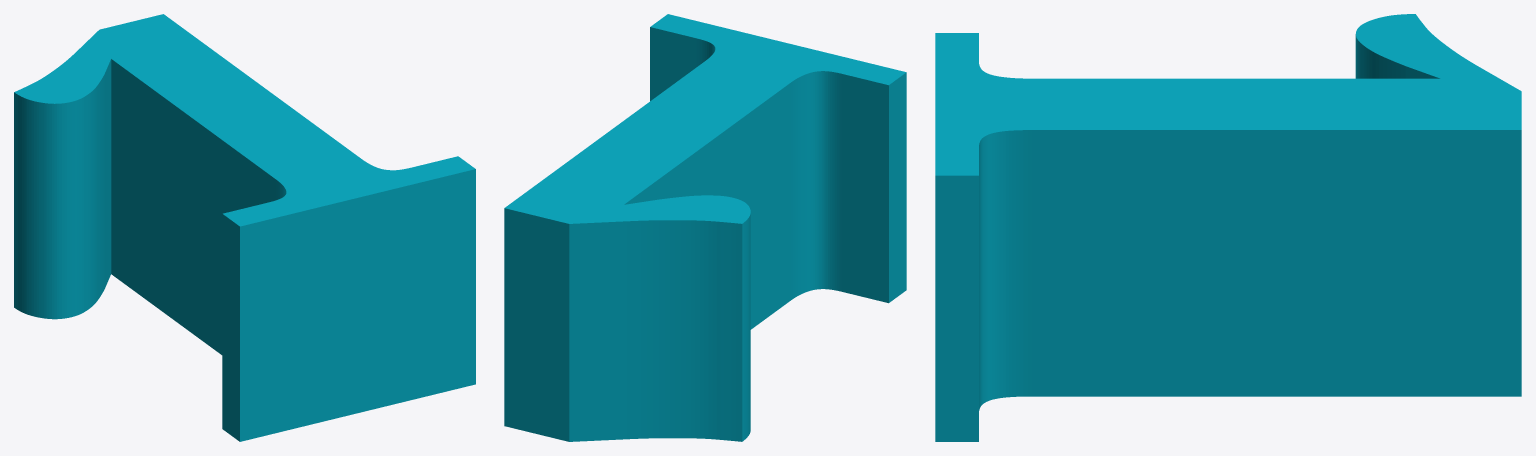
3 renders of one model, left to right at view 1: azimuth 30°, elevation 25°; view 2: azimuth 150°, elevation 25°; view 3: azimuth 270°, elevation 25°, orthographic. The views are drawn at different scales.
Parts seen in each view (by area): view 1: Mesh_Mesh_head_geo.001_lambert2SG.001; view 2: Mesh_Mesh_head_geo.001_lambert2SG.001; view 3: Mesh_Mesh_head_geo.001_lambert2SG.001.
Part boxes in pixels (x1,y1,x2,y2): Mesh_Mesh_head_geo.001_lambert2SG.001: (14,14,475,441); Mesh_Mesh_head_geo.001_lambert2SG.001: (504,14,906,441); Mesh_Mesh_head_geo.001_lambert2SG.001: (935,14,1521,441).
Bounding box in the file's own units: 13 × 10 × 19.94.
